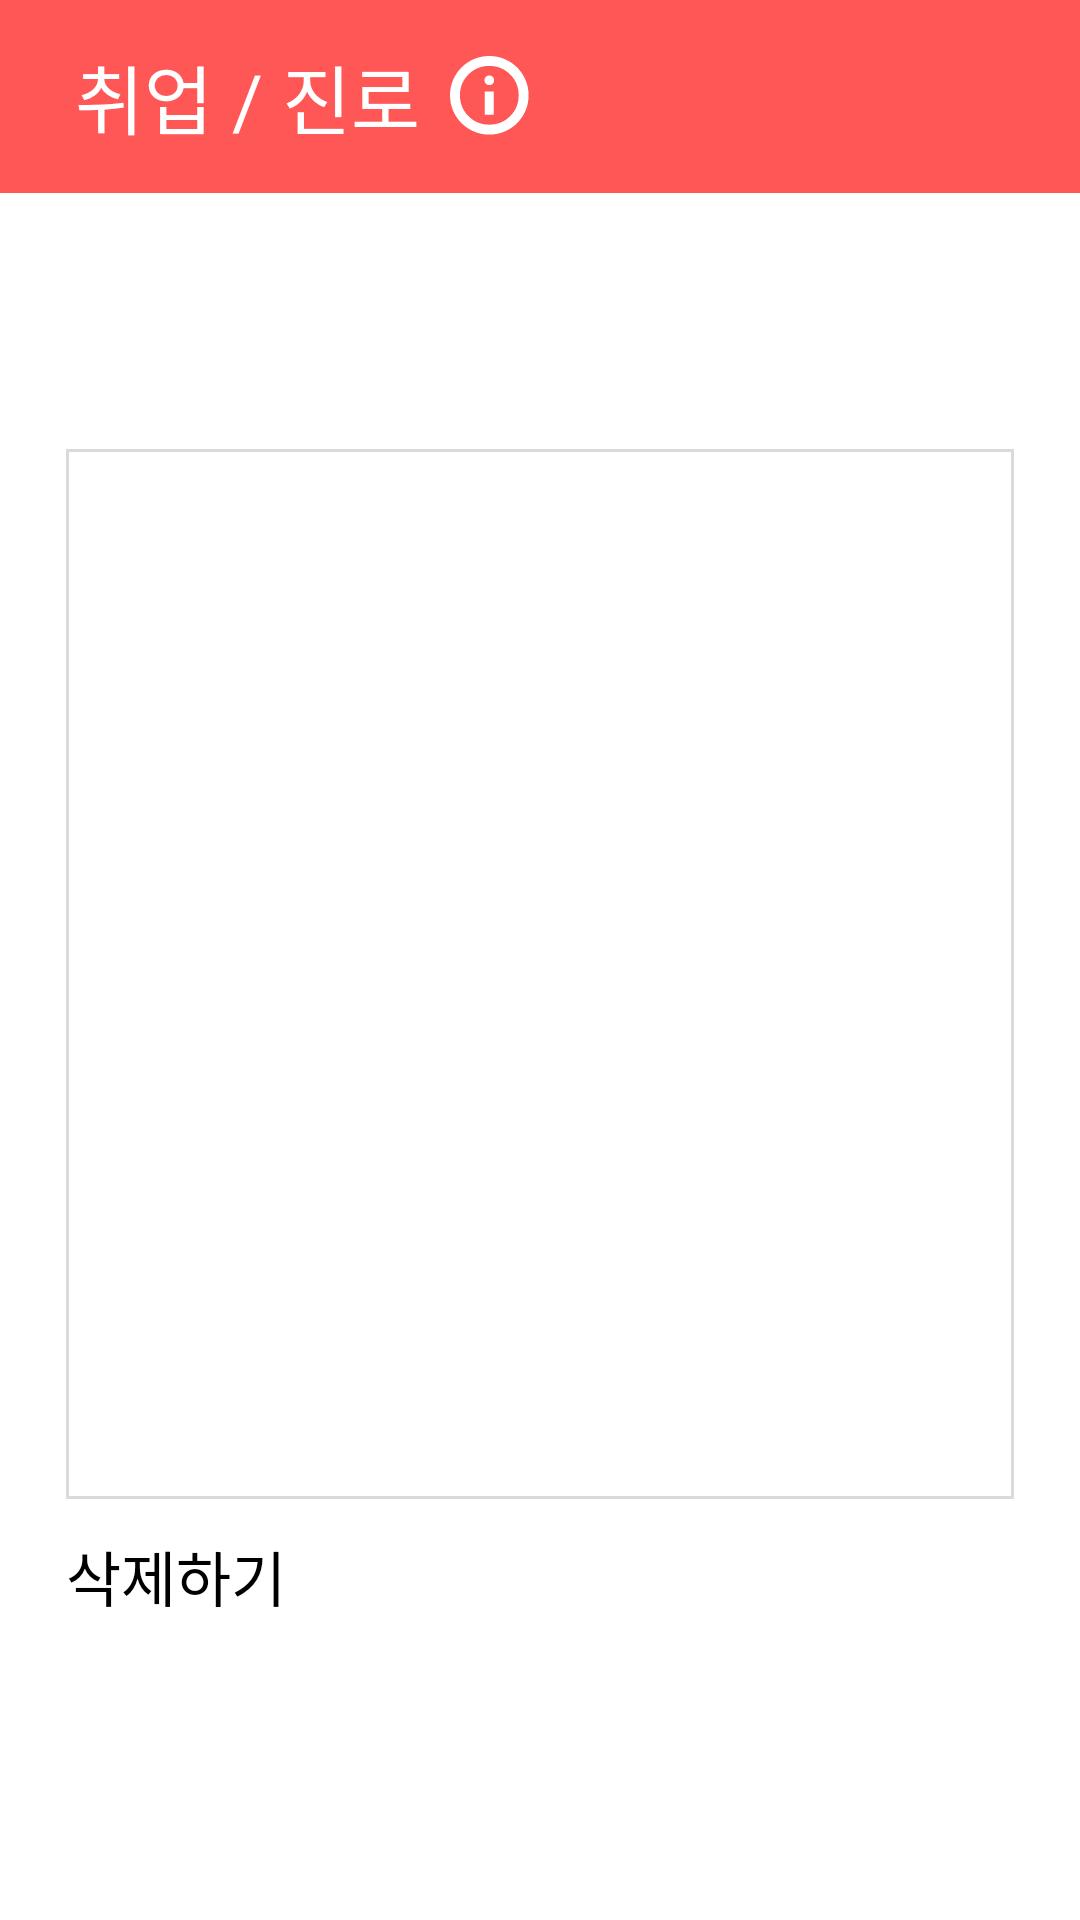

Icon bounding boxes for this 1080×1920 phone screenshot, format (x1, y1, x2, y2):
info: (450, 56, 529, 135)
